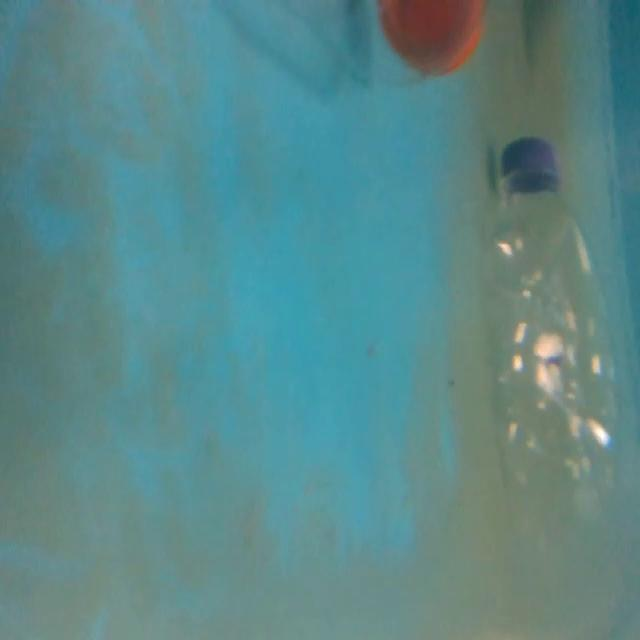plastic bottle: (478, 132, 630, 537)
